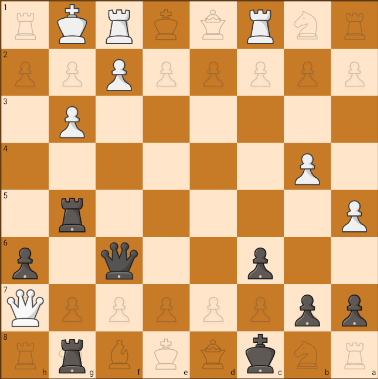bk: (239, 331, 282, 377)
bp: (4, 239, 44, 283), (290, 287, 329, 329), (338, 290, 377, 330), (241, 247, 281, 282)
bq: (97, 239, 139, 280)
br: (51, 333, 96, 378), (52, 191, 95, 237)
wk: (1, 285, 44, 327), (54, 4, 91, 48)
wp: (98, 50, 138, 93), (286, 149, 325, 187), (336, 194, 372, 235), (54, 101, 91, 140)
wq: (101, 4, 138, 48)
wr: (240, 5, 282, 47)
